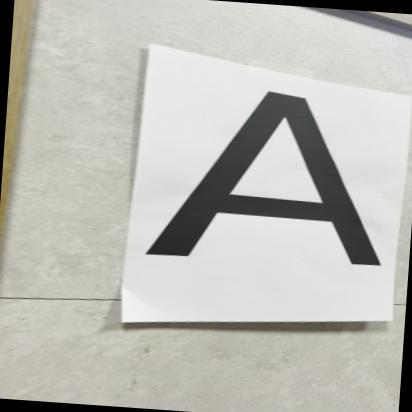seat: (137, 82, 412, 302)
